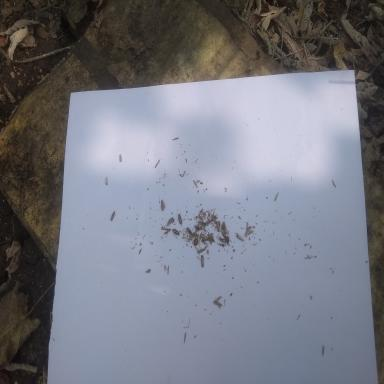pbw: (197, 245, 206, 259), (245, 222, 253, 236), (175, 212, 182, 227), (214, 296, 222, 309), (161, 228, 171, 238), (200, 228, 208, 240), (204, 218, 212, 226), (172, 228, 180, 236), (166, 217, 173, 226), (221, 227, 226, 239), (208, 232, 213, 244), (236, 234, 244, 241), (161, 199, 166, 210), (211, 215, 217, 224), (222, 222, 227, 232), (200, 255, 204, 267), (186, 227, 192, 235), (110, 211, 115, 220), (274, 192, 279, 201), (219, 237, 226, 243), (193, 180, 198, 188), (155, 160, 160, 168), (217, 220, 220, 232), (197, 234, 200, 245), (105, 176, 108, 185), (322, 344, 324, 356), (167, 265, 169, 275), (164, 265, 167, 271), (120, 154, 122, 162), (196, 180, 200, 183)
